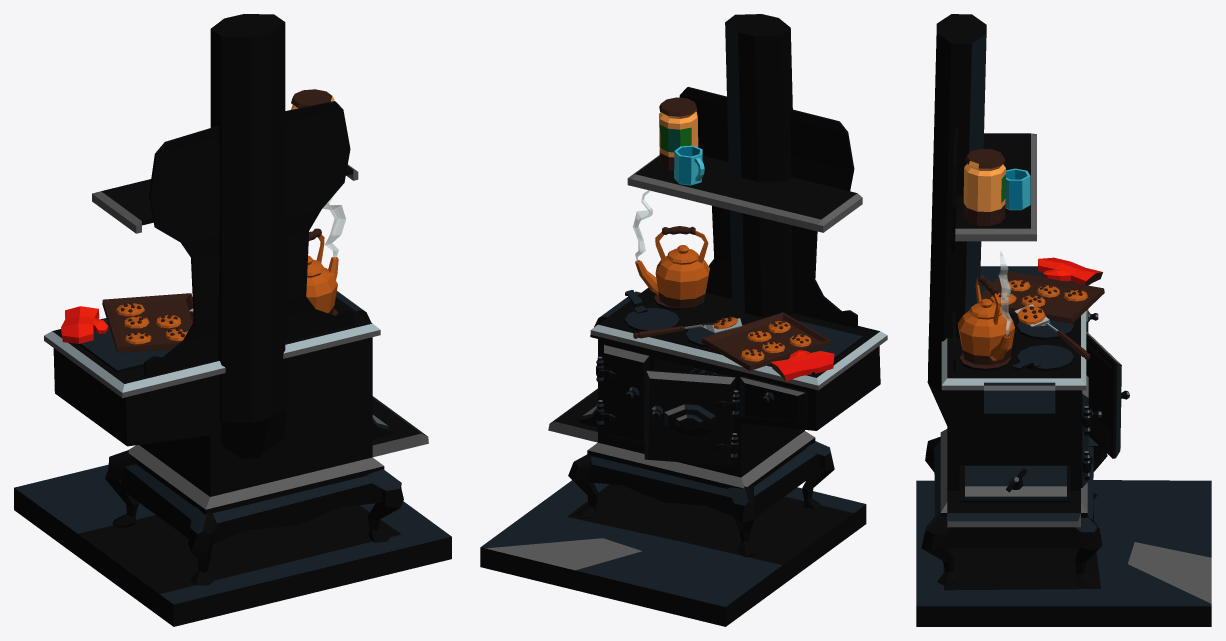
3 views of the same model, side by side, from view 1: azimuth 30°, elevation 25°; view 2: azimuth 150°, elevation 25°; view 3: azimuth 270°, elevation 25° (orthographic). The views are drawn at different scales.
Parts seen in each view (by area): view 1: group376465851, group1739955993; view 2: group376465851, group1739955993; view 3: group376465851, group1739955993.
Boxes of the visible parts, x1,y1,x2,y2 form: group376465851: (44, 14, 428, 585); group1739955993: (14, 464, 451, 626); group376465851: (548, 14, 887, 557); group1739955993: (480, 480, 866, 626); group376465851: (921, 14, 1129, 587); group1739955993: (916, 480, 1211, 626).
Size of the model in its own units: 3.83 by 6.49 by 3.35.
